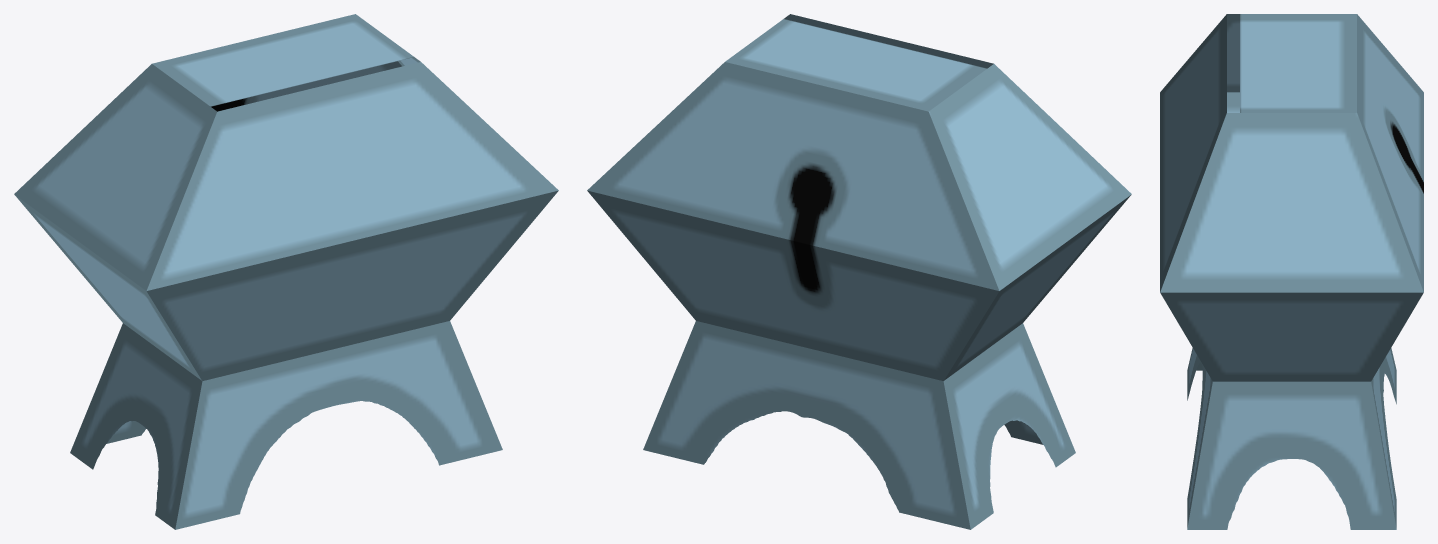
Rendered from safe.fbx.
3 renders of one model, left to right at view 1: azimuth 30°, elevation 25°; view 2: azimuth 150°, elevation 25°; view 3: azimuth 270°, elevation 25°, orthographic.
Visible parts, largest first — view 1: Cube; view 2: Cube; view 3: Cube.
Part boxes in pixels (box(x1,y1,x2,y2)): Cube: box(14, 14, 558, 529); Cube: box(587, 14, 1131, 529); Cube: box(1160, 14, 1423, 529).
Size of the model in its own units: 3.33 by 3 by 1.85.
